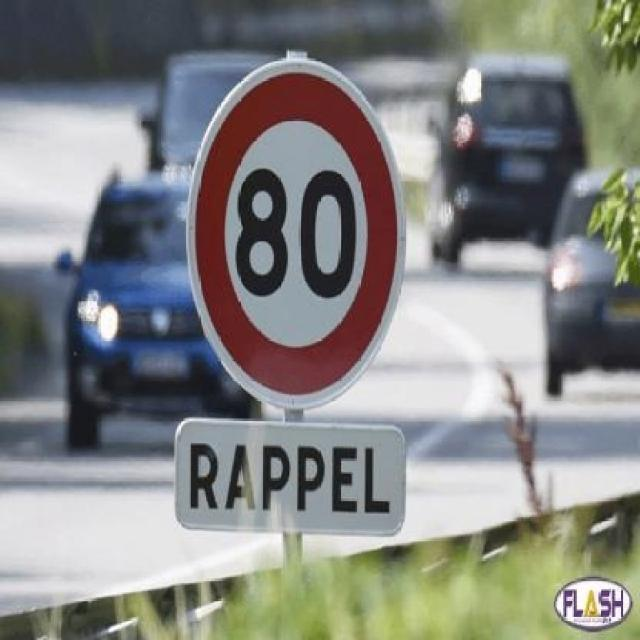forb_speed_over_80: (195, 58, 400, 410)
